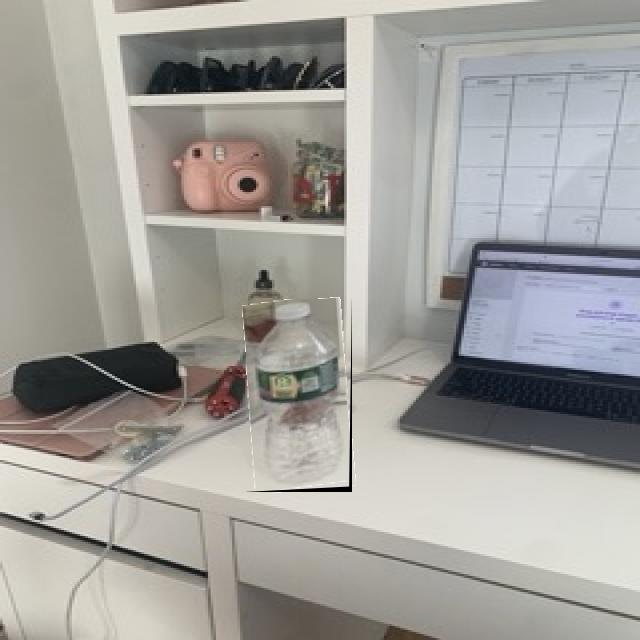water_bottle: (246, 299, 352, 492)
